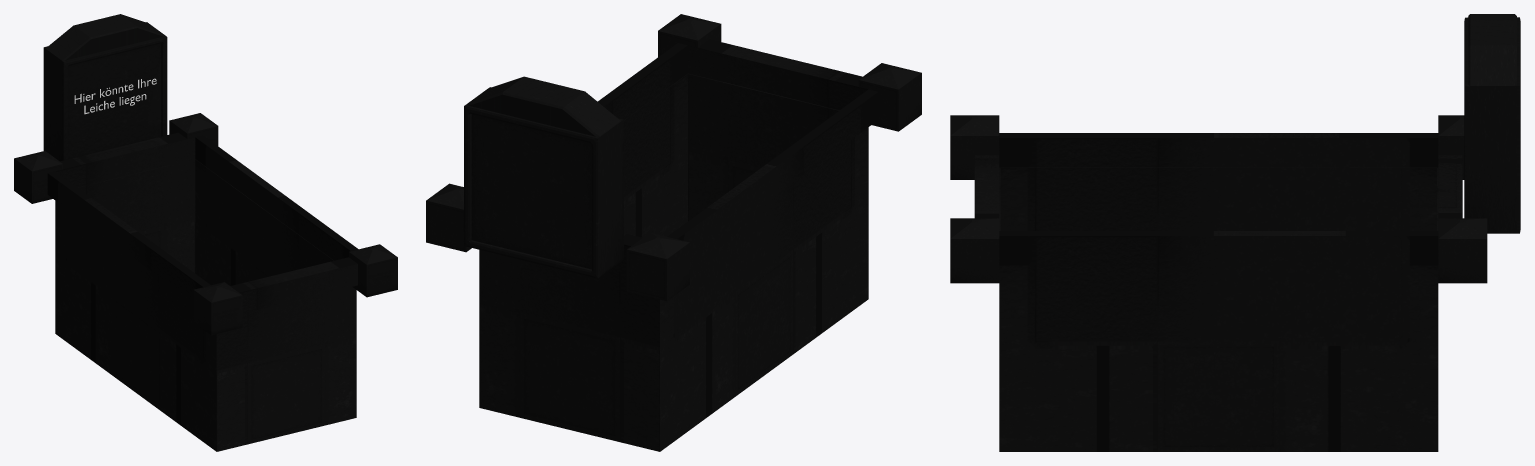
The model's file is grab_fixed.glb.
The picture shows the model from 3 angles, left to right: view 1: azimuth 30°, elevation 25°; view 2: azimuth 150°, elevation 25°; view 3: azimuth 270°, elevation 25°; orthographic projection. The views are drawn at different scales.
Parts seen in each view (by area): view 1: Cube, Cube.005, Cube.001, Cube.006, Cube.002, Cube.004, Text; view 2: Cube, Cube.005, Cube.002, Cube.001, Cube.004, Cube.006; view 3: Cube, Cube.005, Cube.006, Cube.004, Cube.001, Cube.002.
Boxes of the visible parts, box(x1,y1,x2,y2) form: Cube: box(47, 132, 358, 451); Cube.005: box(43, 14, 167, 161); Cube.001: box(193, 282, 242, 335); Cube.006: box(349, 244, 397, 297); Cube.002: box(14, 151, 62, 203); Cube.004: box(169, 113, 218, 145); Text: box(74, 78, 156, 114); Cube: box(479, 39, 878, 451); Cube.005: box(464, 76, 623, 278); Cube.002: box(626, 232, 689, 301); Cube.001: box(858, 63, 921, 131); Cube.004: box(426, 183, 471, 252); Cube.006: box(658, 14, 721, 56); Cube: box(974, 133, 1462, 451); Cube.005: box(1464, 14, 1520, 233); Cube.006: box(950, 218, 999, 283); Cube.004: box(1438, 218, 1487, 283); Cube.001: box(950, 115, 999, 179); Cube.002: box(1438, 115, 1464, 179).
Size of the model in its own units: 3.6 by 5.1 by 7.01.
2 materials, 1 textured.
